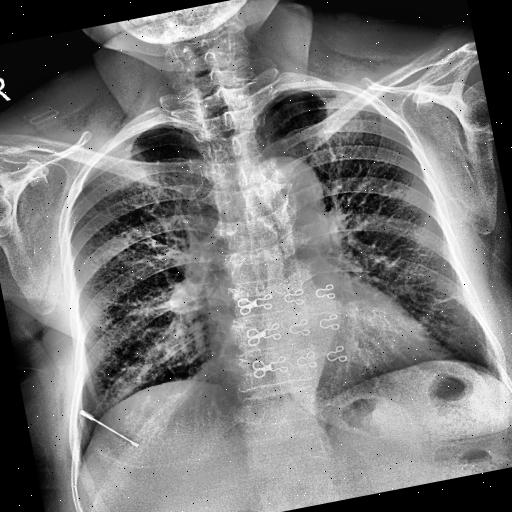0- Aortic enlargement: (240, 150, 327, 219), (250, 150, 326, 223), (250, 151, 326, 223)
13- Pulmonary fibrosis: (434, 290, 462, 306), (434, 292, 460, 305)
3- Cardiomegaly: (203, 304, 453, 416), (202, 293, 434, 408)
